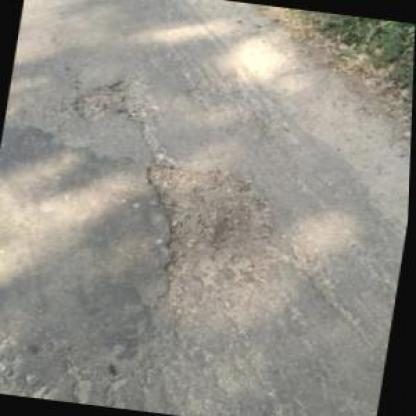pothole: (129, 154, 293, 299), (70, 68, 160, 128)
